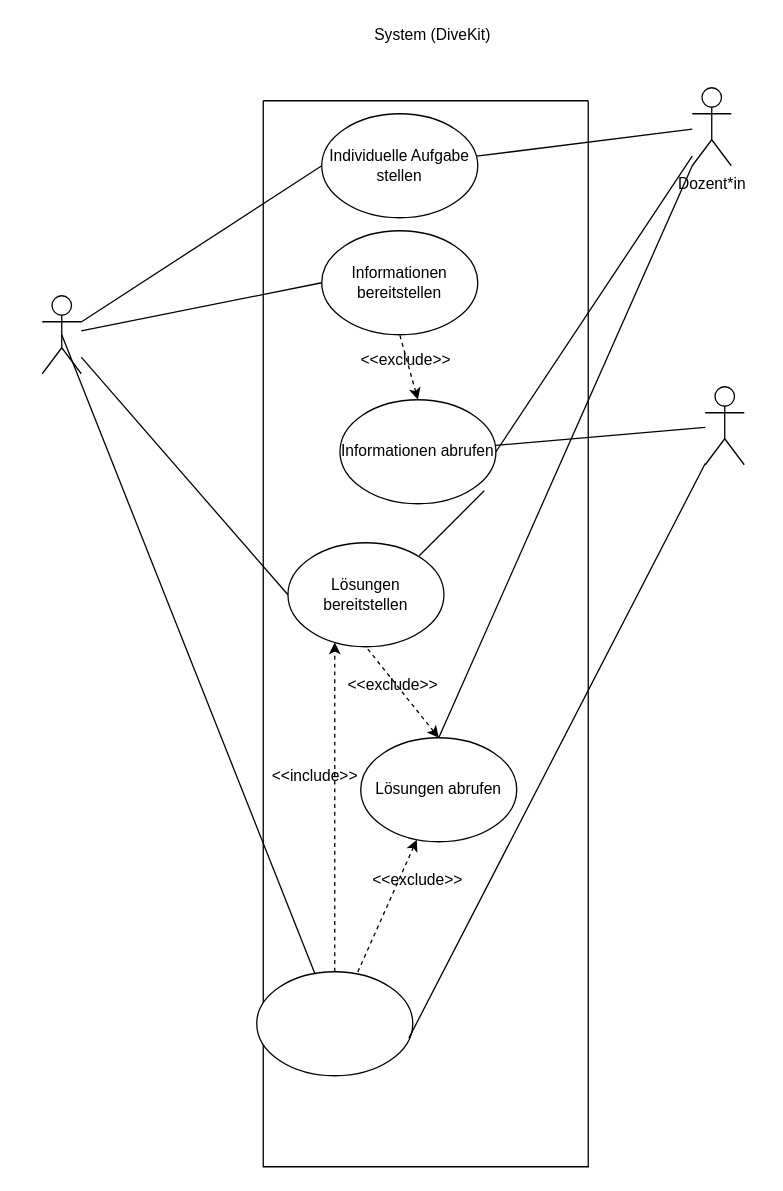
Some shapes in this 783 by 1191 pixel diagram are drawn without their labels. Each missing label, with the centre of its shape:
Drittsystem: point (61, 334)
Lösungen einsenden: point (334, 1023)
Student*in: point (724, 425)
